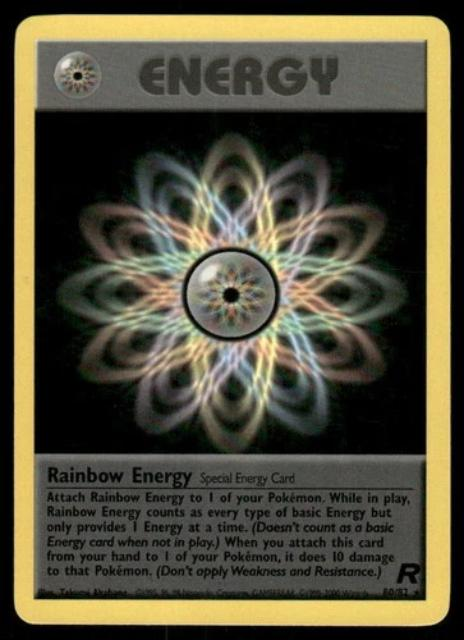Card: (9, 9, 456, 630)
Name: (43, 462, 198, 491)
